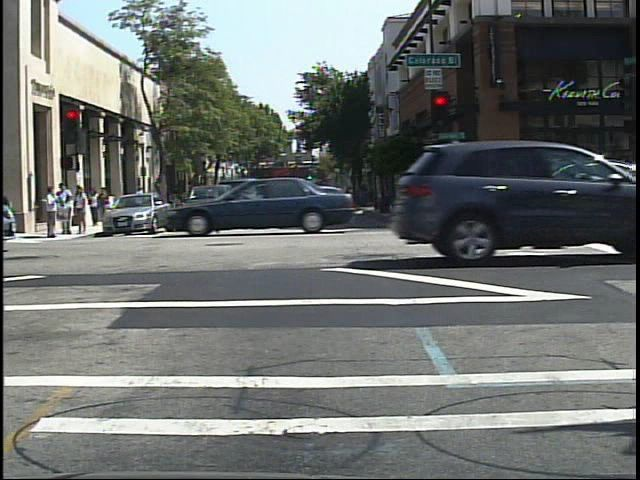person: (88, 187, 103, 228), (167, 182, 183, 220), (132, 184, 149, 219)
